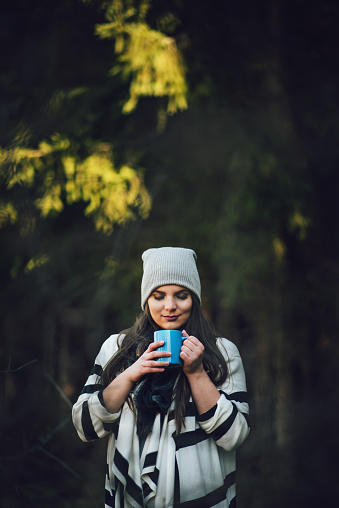em pe: (67, 248, 256, 501)
